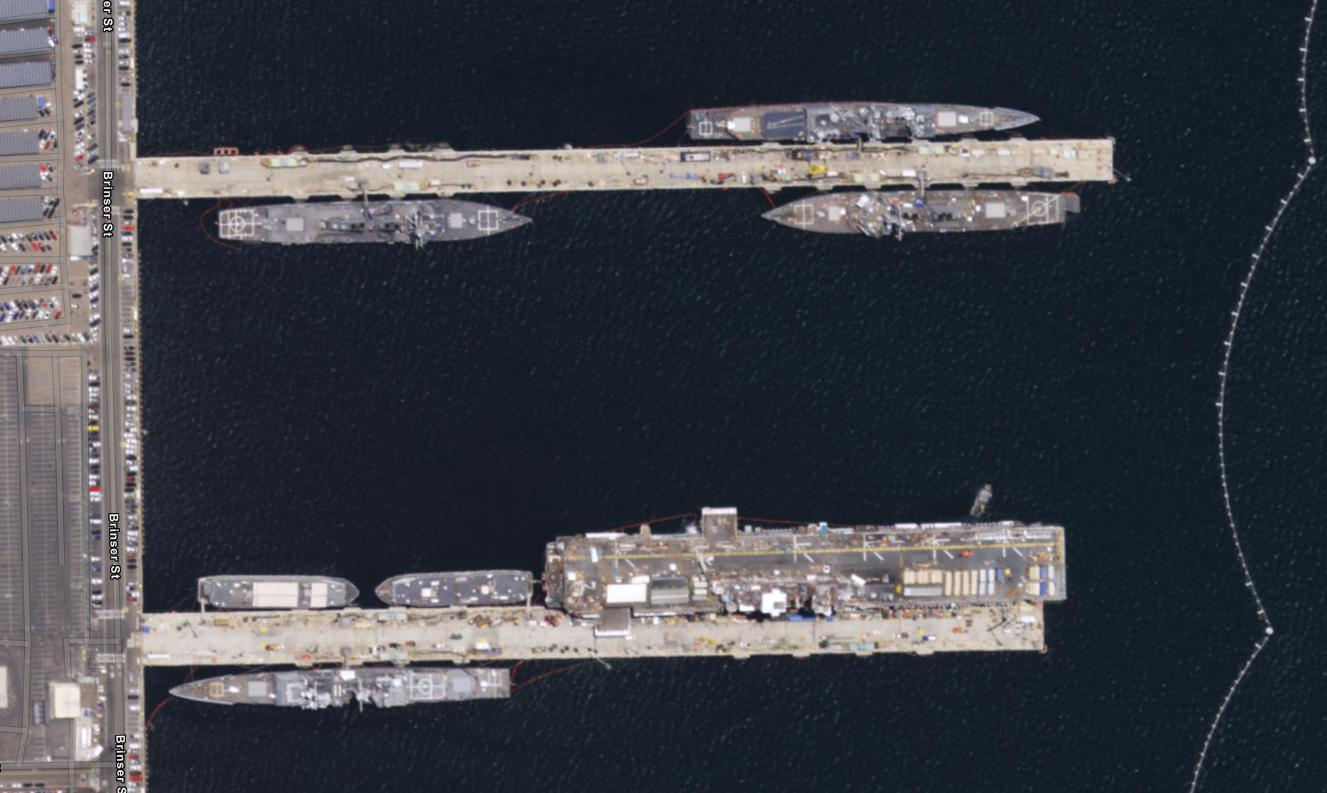destroyer: (151, 661, 530, 721), (684, 93, 1056, 146)
fregate: (208, 200, 546, 252), (749, 188, 1087, 239)
pha: (539, 498, 1089, 626)
